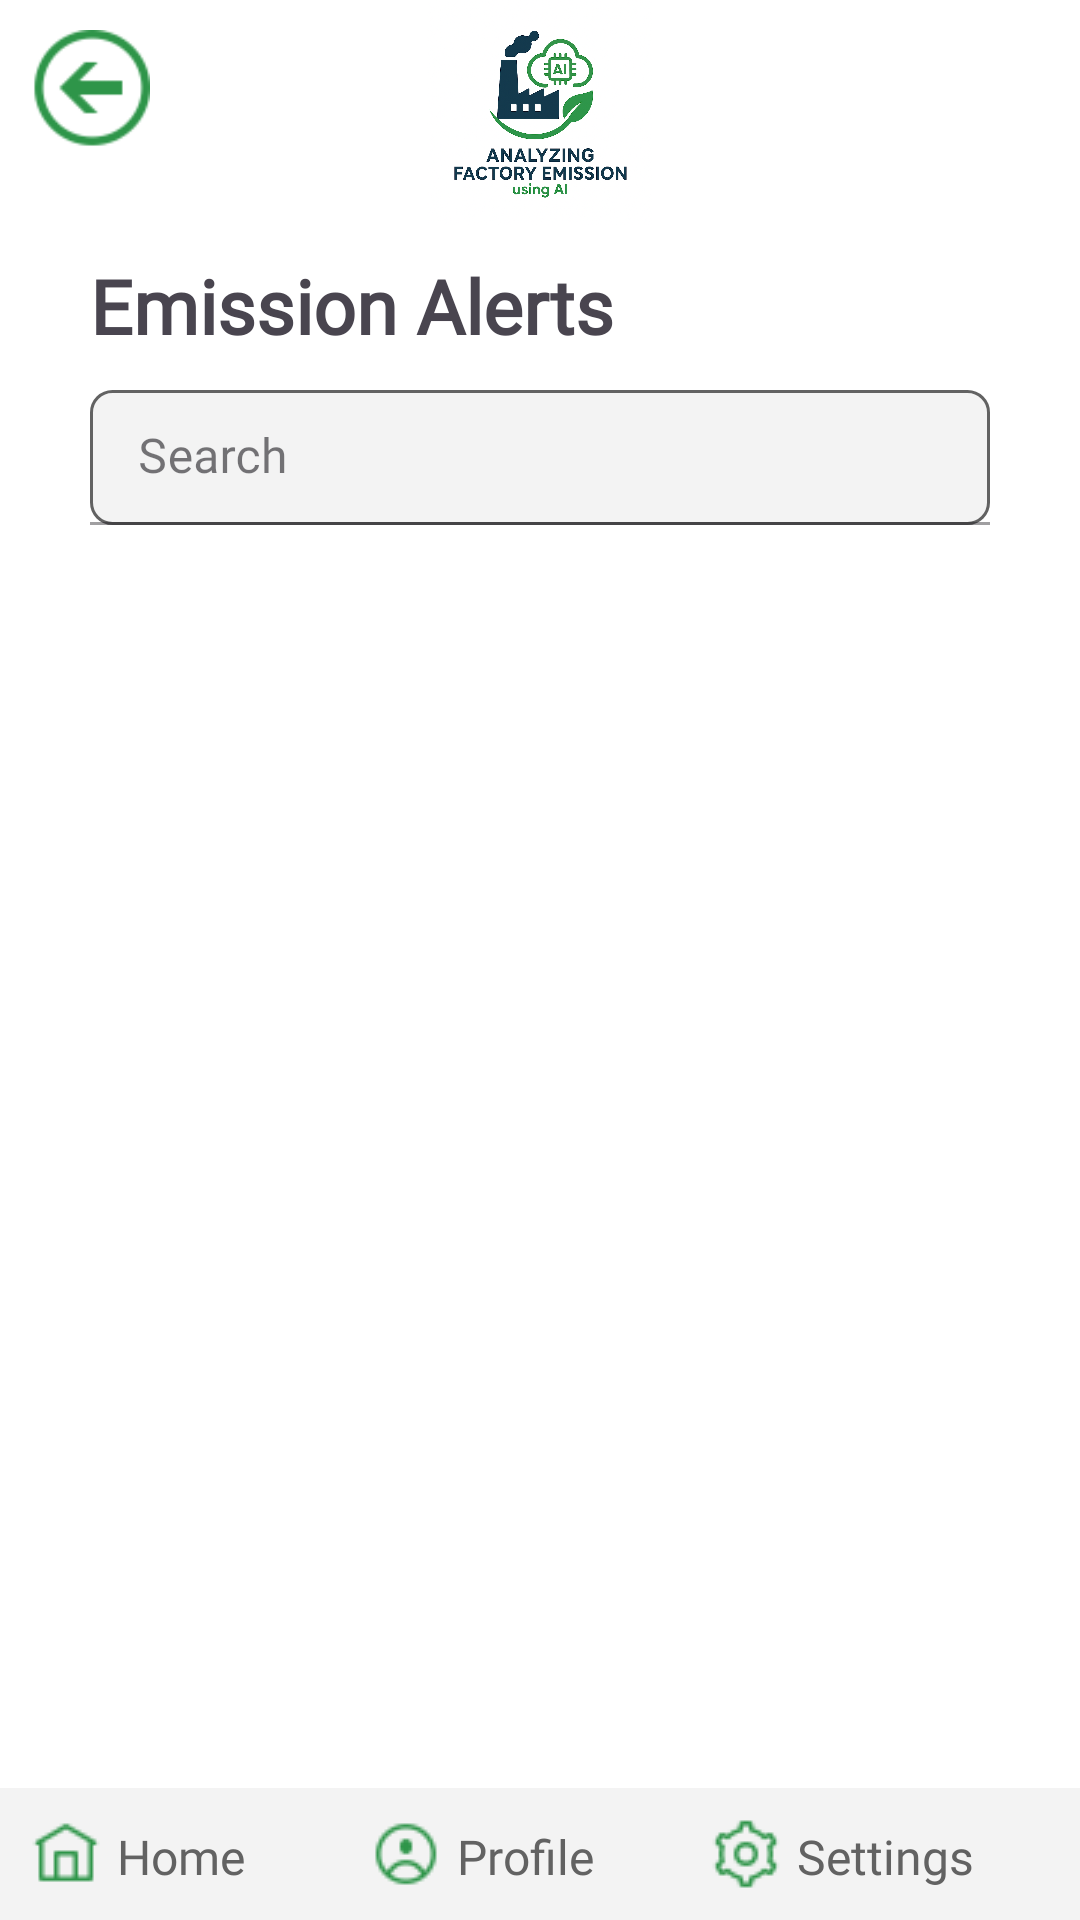

Screen size 1080 × 1920. Icon name, then its box in pixels as [x1=x1, y1=y1, x2=x2, y2=y2]:
back: [x1=34, y1=30, x2=150, y2=146]
